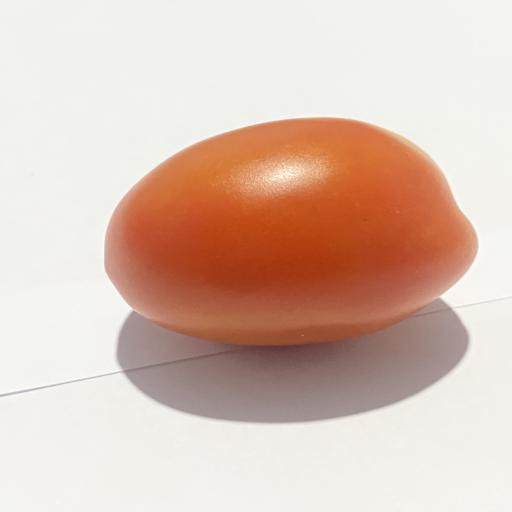ripe: (105, 118, 477, 345)
